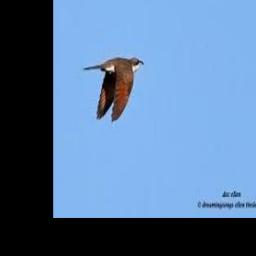Cuckoo: (81, 56, 143, 120)
